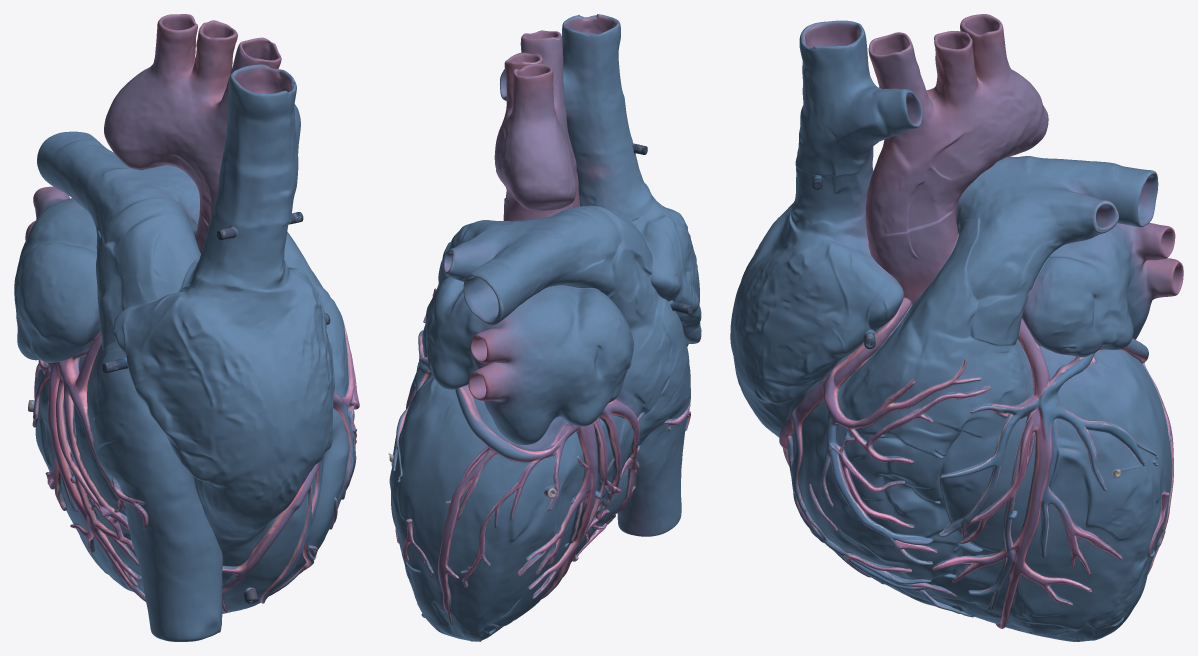
The picture shows the model from 3 angles, left to right: view 1: azimuth 30°, elevation 25°; view 2: azimuth 150°, elevation 25°; view 3: azimuth 270°, elevation 25°; orthographic projection. The views are drawn at different scales.
Visible parts, largest first — view 1: tripo_node_c5d68e9b-bec3-4401-9465-2e9d1590f2ba; view 2: tripo_node_c5d68e9b-bec3-4401-9465-2e9d1590f2ba; view 3: tripo_node_c5d68e9b-bec3-4401-9465-2e9d1590f2ba.
Boxes of the visible parts, box(x1,y1,x2,y2) form: tripo_node_c5d68e9b-bec3-4401-9465-2e9d1590f2ba: box(14, 14, 359, 641); tripo_node_c5d68e9b-bec3-4401-9465-2e9d1590f2ba: box(388, 14, 701, 641); tripo_node_c5d68e9b-bec3-4401-9465-2e9d1590f2ba: box(730, 14, 1183, 641).
Size of the model in its own units: 0.4515 by 1 by 0.6791.
Materials: 1 (1 with a texture image).
